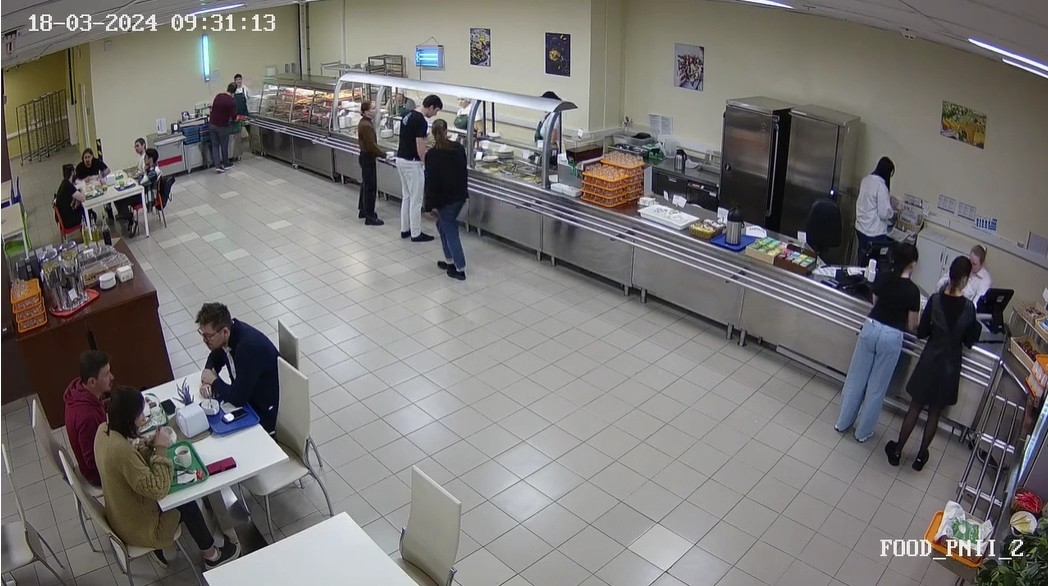Na_Kasse: (771, 214, 956, 446), (820, 239, 1001, 476)
Personal: (853, 140, 893, 254), (533, 81, 568, 153), (967, 242, 993, 301), (455, 91, 487, 136), (231, 66, 253, 114)
Vybiraet: (347, 77, 393, 237), (428, 107, 469, 280), (399, 88, 430, 245), (205, 75, 238, 175)
Za_Stolom: (183, 287, 290, 433), (96, 388, 179, 551), (50, 347, 118, 479), (50, 153, 82, 241), (134, 147, 171, 217), (69, 136, 115, 187), (121, 130, 147, 182)
